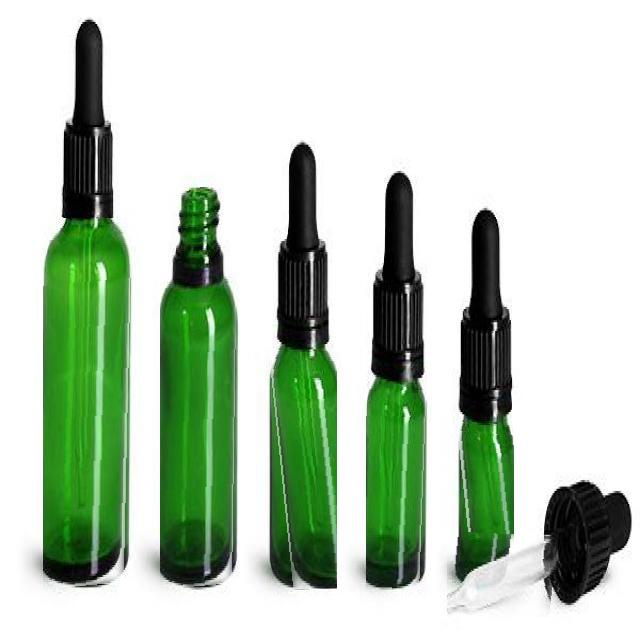Glass: (43, 218, 132, 590), (160, 187, 238, 590), (268, 344, 337, 589), (366, 375, 427, 590), (456, 416, 514, 587), (447, 532, 558, 618)
